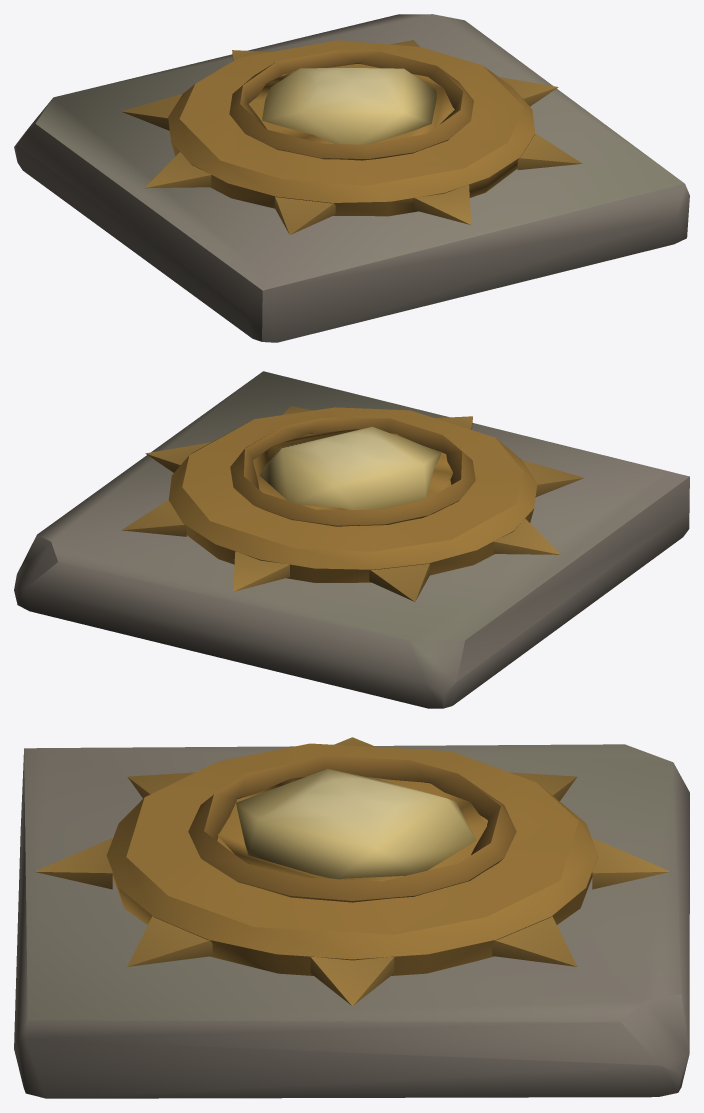
Rendered from ruins-pc-target-low.glb.
3 views of the same model, one above another, from view 1: azimuth 30°, elevation 25°; view 2: azimuth 150°, elevation 25°; view 3: azimuth 270°, elevation 25° (orthographic). The views are drawn at different scales.
Parts seen in each view (by area): view 1: 0_ruins_pc_target, 1_glow; view 2: 0_ruins_pc_target, 1_glow; view 3: 0_ruins_pc_target, 1_glow.
Part boxes in pixels (x1=…): 0_ruins_pc_target: x1=14, y1=14, x2=689, y2=342; 1_glow: x1=262, y1=68, x2=436, y2=144; 0_ruins_pc_target: x1=14, y1=371, x2=689, y2=708; 1_glow: x1=259, y1=426, x2=441, y2=509; 0_ruins_pc_target: x1=14, y1=737, x2=689, y2=1098; 1_glow: x1=236, y1=769, x2=476, y2=879.
Bounding box in the file's own units: 0.5632 × 0.15 × 0.5637.
